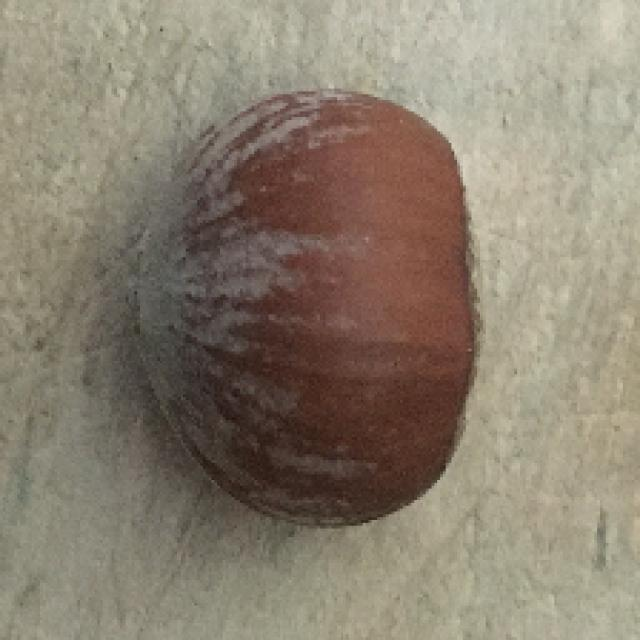qualityHazelnut: (120, 84, 485, 530)
